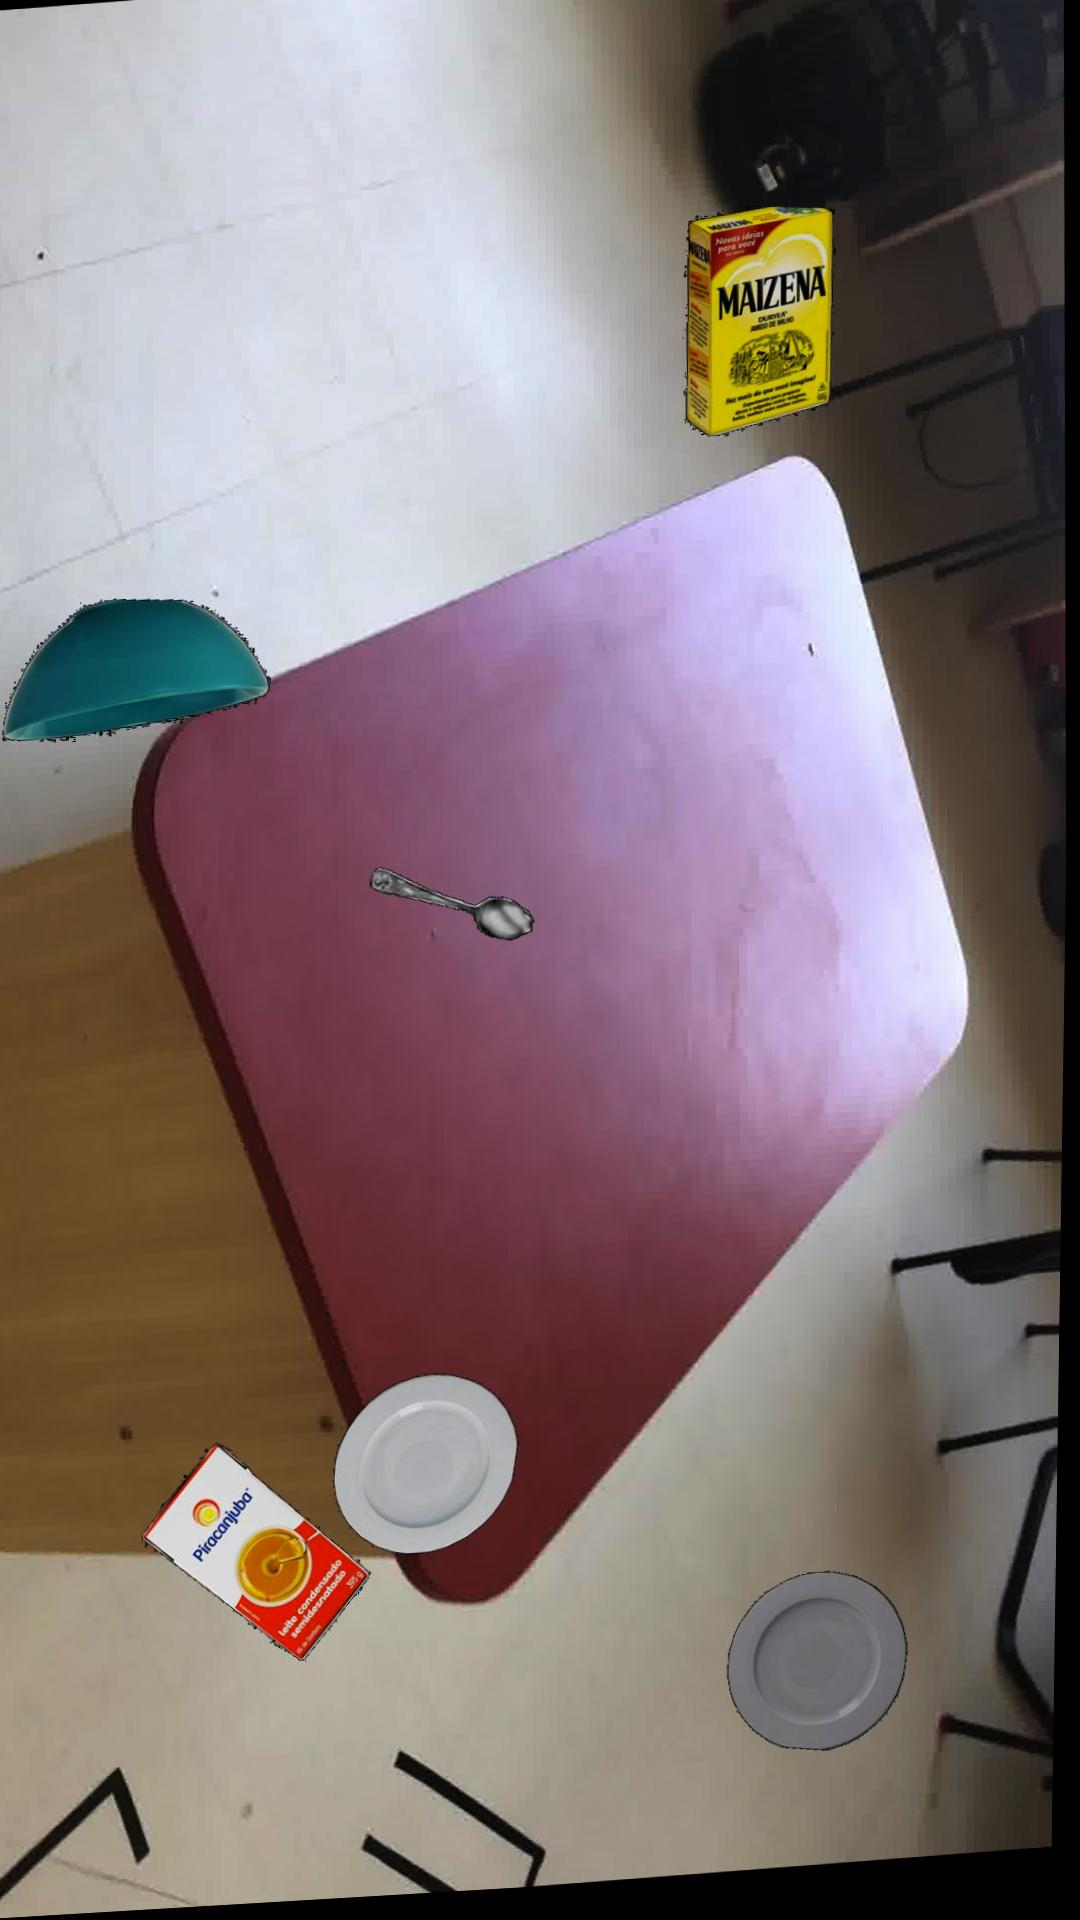bowl: (1, 601, 270, 744)
plate: (335, 1379, 521, 1561), (729, 1582, 910, 1762)
spoon: (371, 873, 534, 947)
